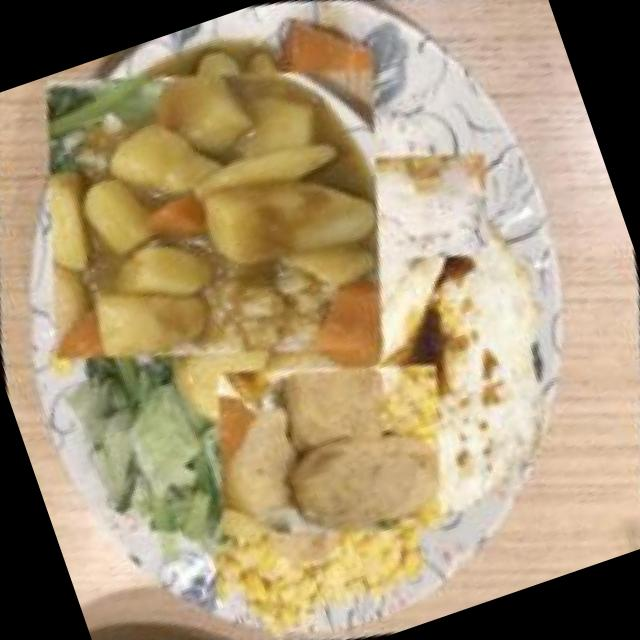chicken_nuggets: (176, 296, 487, 606)
curry: (0, 0, 462, 461)
fried_eggs: (288, 163, 628, 570)
rice: (260, 83, 512, 334)
